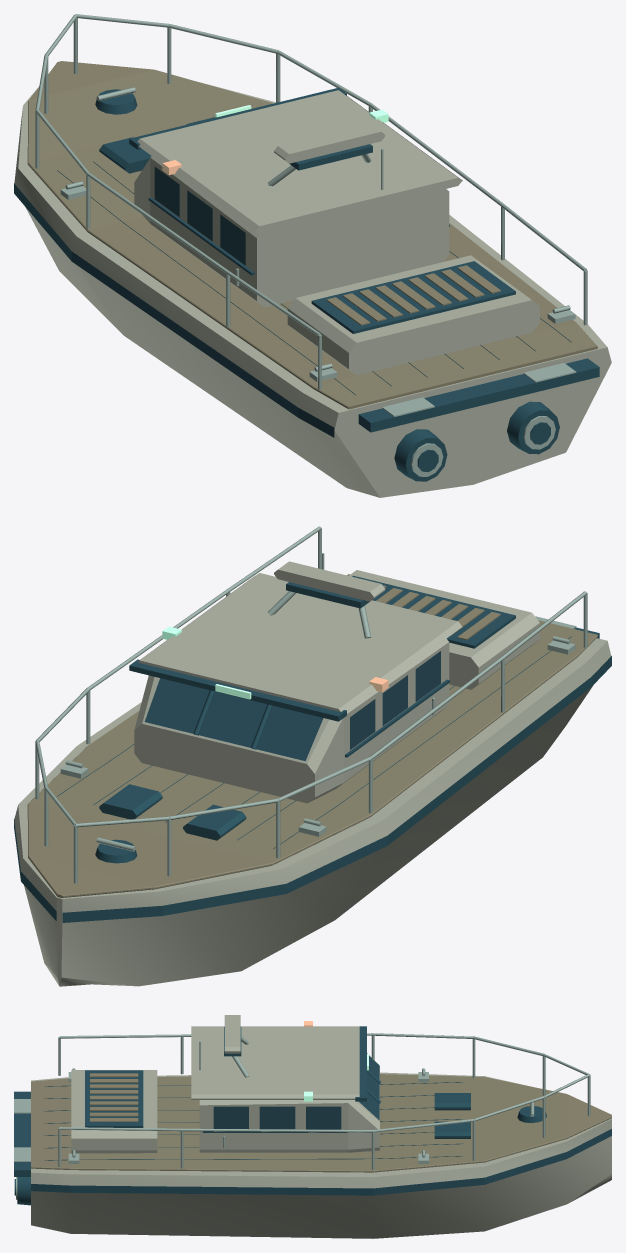
Rendered from vehicle-yacht-v02.glb.
The picture shows the model from 3 angles, top to bottom: view 1: azimuth 30°, elevation 25°; view 2: azimuth 150°, elevation 25°; view 3: azimuth 270°, elevation 25°; orthographic projection. The views are drawn at different scales.
Parts seen in each view (by area): view 1: V02_Paint_Surface, V02_Deck_Surface, V02_Trim_Surface, V02_Steel_Surface, V02_Glass_Surface; view 2: V02_Paint_Surface, V02_Deck_Surface, V02_Trim_Surface, V02_Glass_Surface, V02_Steel_Surface, V02_Lamp_Surface; view 3: V02_Paint_Surface, V02_Deck_Surface, V02_Trim_Surface, V02_Steel_Surface, V02_Glass_Surface.
Boxes of the visible parts, x1,y1,x2,y2 form: V02_Paint_Surface: (14, 81, 611, 497); V02_Deck_Surface: (27, 61, 597, 409); V02_Trim_Surface: (14, 87, 599, 481); V02_Steel_Surface: (35, 14, 587, 476); V02_Glass_Surface: (154, 166, 245, 265); V02_Paint_Surface: (14, 561, 611, 986); V02_Deck_Surface: (27, 574, 597, 897); V02_Trim_Surface: (14, 575, 611, 922); V02_Glass_Surface: (144, 651, 440, 761); V02_Steel_Surface: (35, 526, 587, 883); V02_Lamp_Surface: (162, 626, 388, 699); V02_Paint_Surface: (31, 1015, 611, 1238); V02_Deck_Surface: (31, 1073, 611, 1172); V02_Trim_Surface: (14, 1026, 611, 1205); V02_Steel_Surface: (14, 1033, 590, 1199); V02_Glass_Surface: (213, 1056, 379, 1129).
Bounding box in the file's own units: 4.82 × 3.71 × 11.27.
